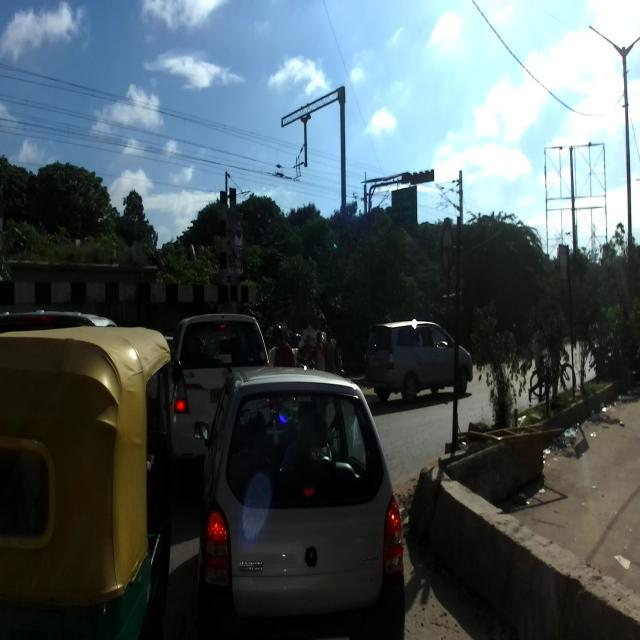Car_Maruti-Suzuki: (194, 366, 404, 639)
Car_Toyota: (169, 312, 270, 488), (364, 319, 474, 405)
autorickshaw: (0, 324, 181, 638)
